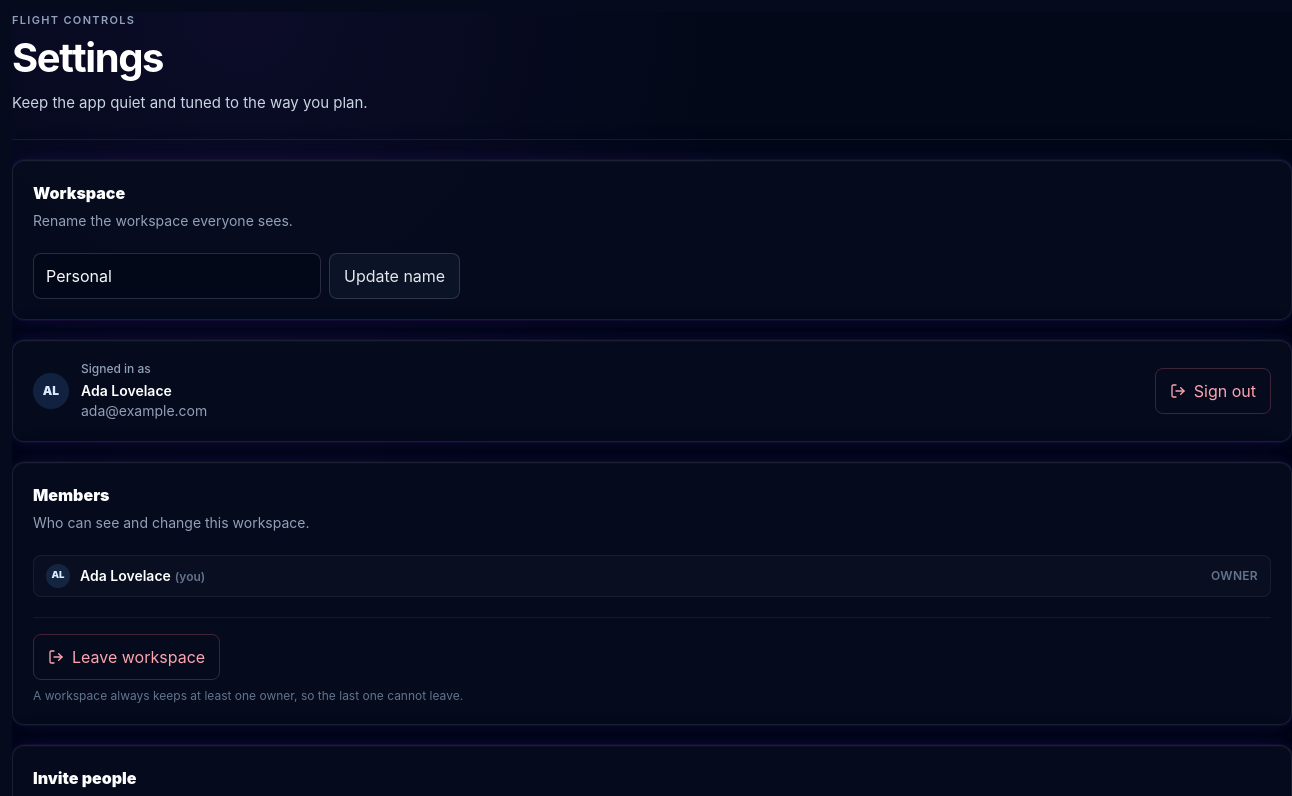
Test: SettingsPage › keeps stored workspace state and shows an error when sign out fails
Click the button "Sign out".
click(1213, 390)  # box [1155,368,1271,414]
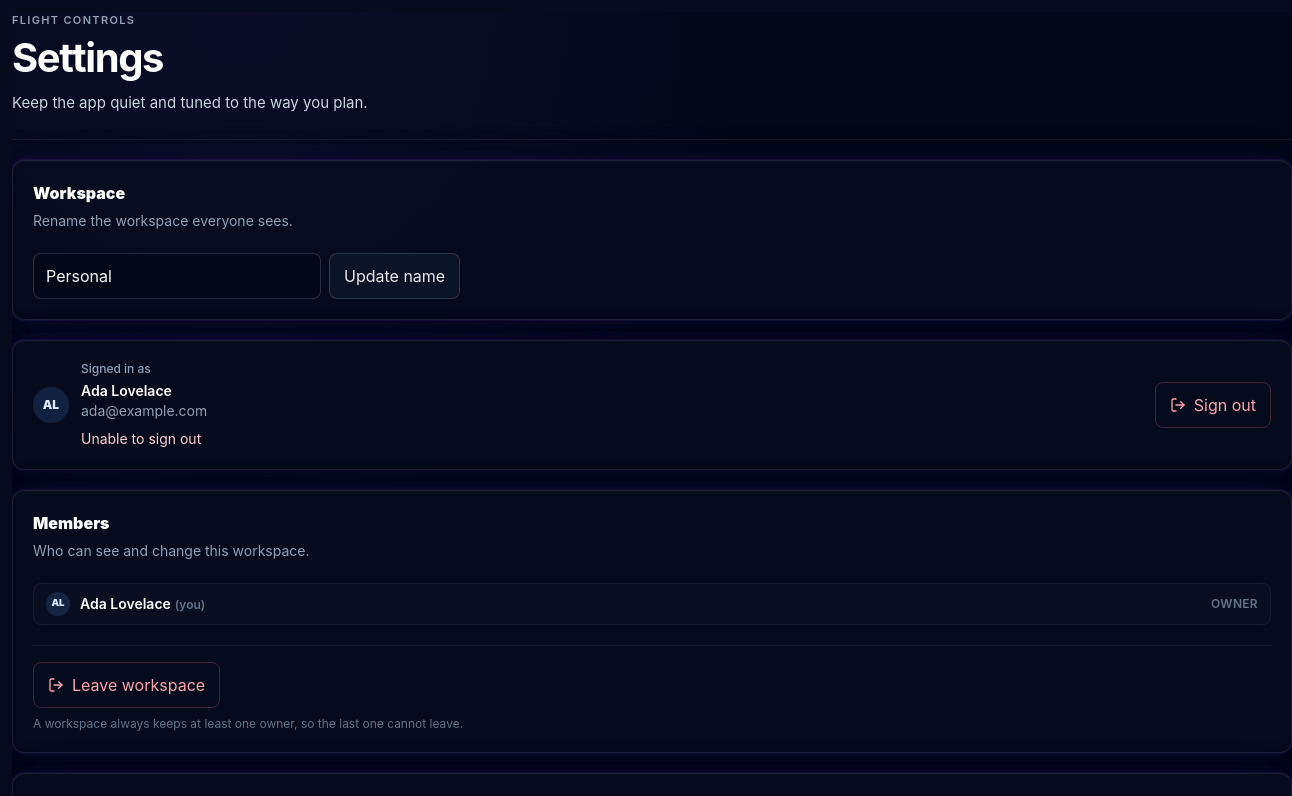
Expected: the message reads "Unable to sign out", [81,430,201,446]
